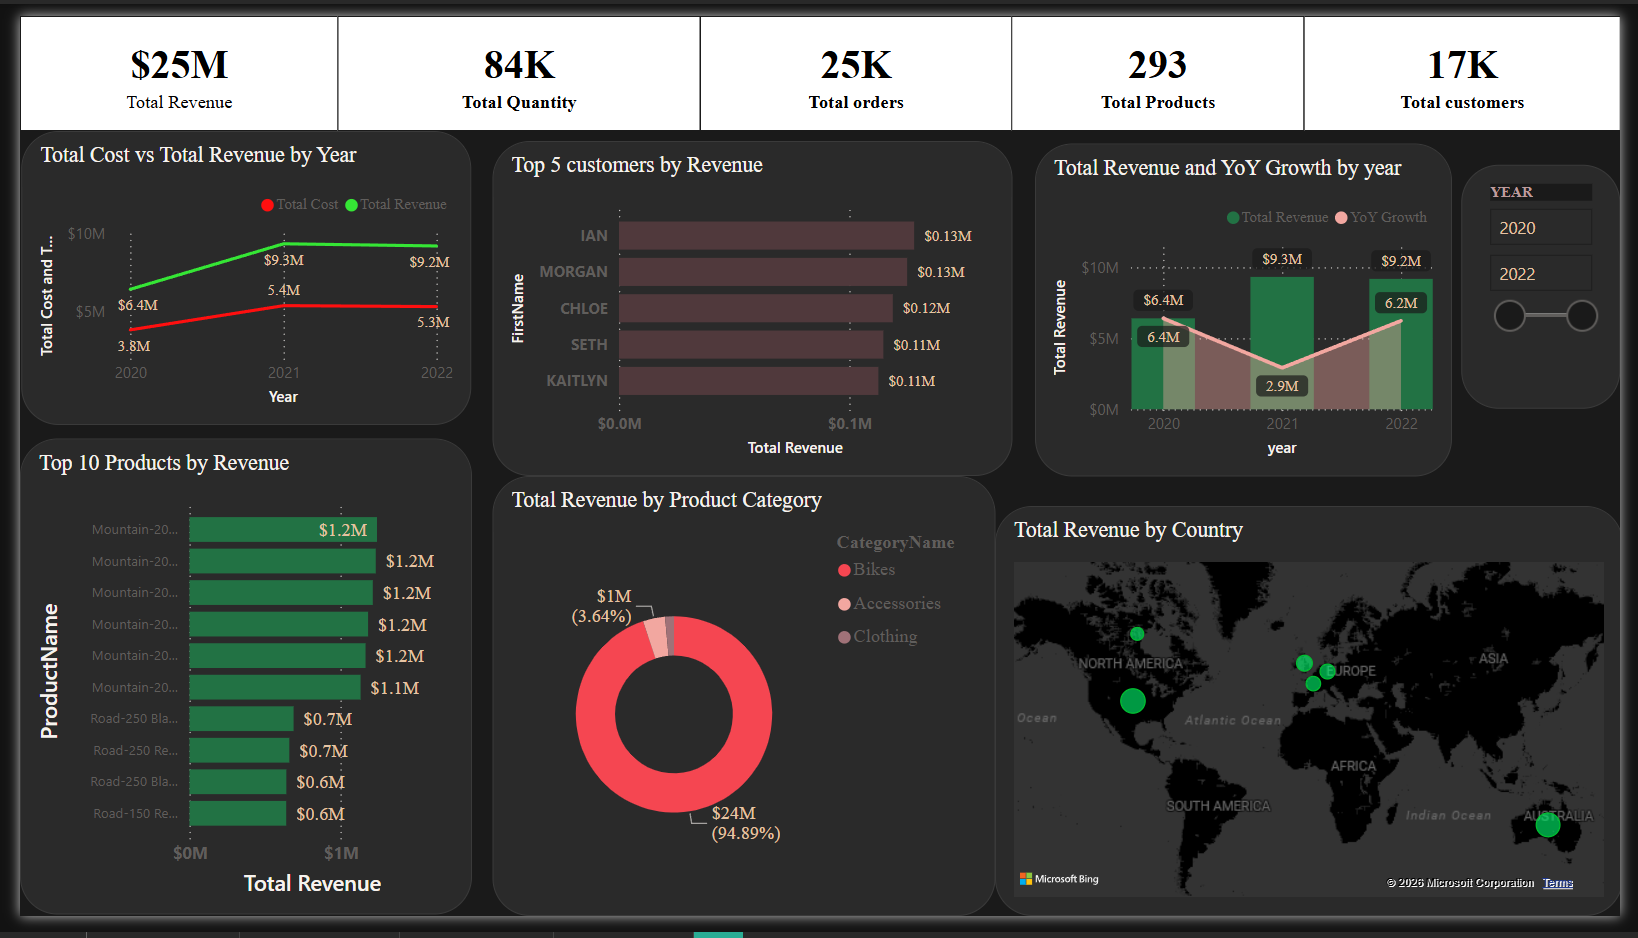

This screenshot's page, from the dashboard's own definition file:
{"tool":"powerbi","page":{"name":"Sales Overview","canvas":[1280,720],"ordinal":0},"visuals":[{"type":"card","fields":{"Values":["sales.Total Revenue"]},"box":[0,0,254.1,92.3],"z":0},{"type":"card","fields":{"Values":["sales.Total_Order_Quantity"]},"box":[254.1,0,290,92.3],"z":1000},{"type":"card","fields":{"Values":["sales.Total orders"]},"box":[544.1,0,249.3,92.3],"z":2000},{"type":"card","fields":{"Values":["Customer.Total customers"]},"box":[1027.1,0,252.9,92.3],"z":3000},{"type":"card","fields":{"Values":["Product.Total_No.of_Products"]},"box":[793.4,0,233.7,92.3],"z":4000},{"type":"slicer","fields":{"Values":["Calendar.year"]},"box":[1152.9,118.6,127.1,195.7],"z":5000},{"type":"clusteredBarChart","title":"Top 10 Products by Revenue","fields":{"Y":["sales.Total Revenue"],"Category":["Product.ProductName"]},"box":[0,338.5,360.6,380.7],"z":6000},{"type":"lineClusteredColumnComboChart","fields":{"Category":["Calendar.year"],"Y":["sales.Total Revenue"],"Y2":["sales.YoY Growth"]},"box":[812,102,333,266],"z":7000},{"type":"clusteredBarChart","title":"Top 5 customers by Revenue","fields":{"Category":["Customer.FirstName"],"Y":["sales.Total Revenue"]},"box":[378,100,416,268],"z":8000},{"type":"lineChart","title":"Total Cost vs Total Revenue by Year","fields":{"Category":["Calendar.Date.Variation.Date Hierarchy.Year"],"Y":["sales.Total Cost","sales.Total Revenue"]},"box":[1,92,360,235],"z":9000},{"type":"map","fields":{"Category":["Territory.Country"],"Size":["sales.Total Revenue"]},"box":[780,392,502,328],"z":10000},{"type":"donutChart","title":"Total Revenue by Product Category","fields":{"Category":["Product.CategoryName"],"Y":["sales.Total Revenue"]},"box":[378,368,402,352],"z":11000}]}

Visuals, with their boxes in screenshot pixels (x1, y1, x2, y2), scaled from the page's 1280x720 canvas onto the 1638x938 screenshot:
card - sales.Total Revenue: region(0, 0, 325, 120)
card - sales.Total_Order_Quantity: region(325, 0, 696, 120)
card - sales.Total orders: region(696, 0, 1015, 120)
card - Customer.Total customers: region(1314, 0, 1637, 120)
card - Product.Total_No.of_Products: region(1015, 0, 1314, 120)
slicer - Calendar.year: region(1475, 155, 1637, 409)
"Top 10 Products by Revenue" clusteredBarChart: region(0, 441, 461, 937)
lineClusteredColumnComboChart - Calendar.year x sales.Total Revenue: region(1039, 133, 1465, 479)
"Top 5 customers by Revenue" clusteredBarChart: region(484, 130, 1016, 479)
"Total Cost vs Total Revenue by Year" lineChart: region(1, 120, 462, 426)
map - Territory.Country x sales.Total Revenue: region(998, 511, 1637, 937)
"Total Revenue by Product Category" donutChart: region(484, 479, 998, 937)
